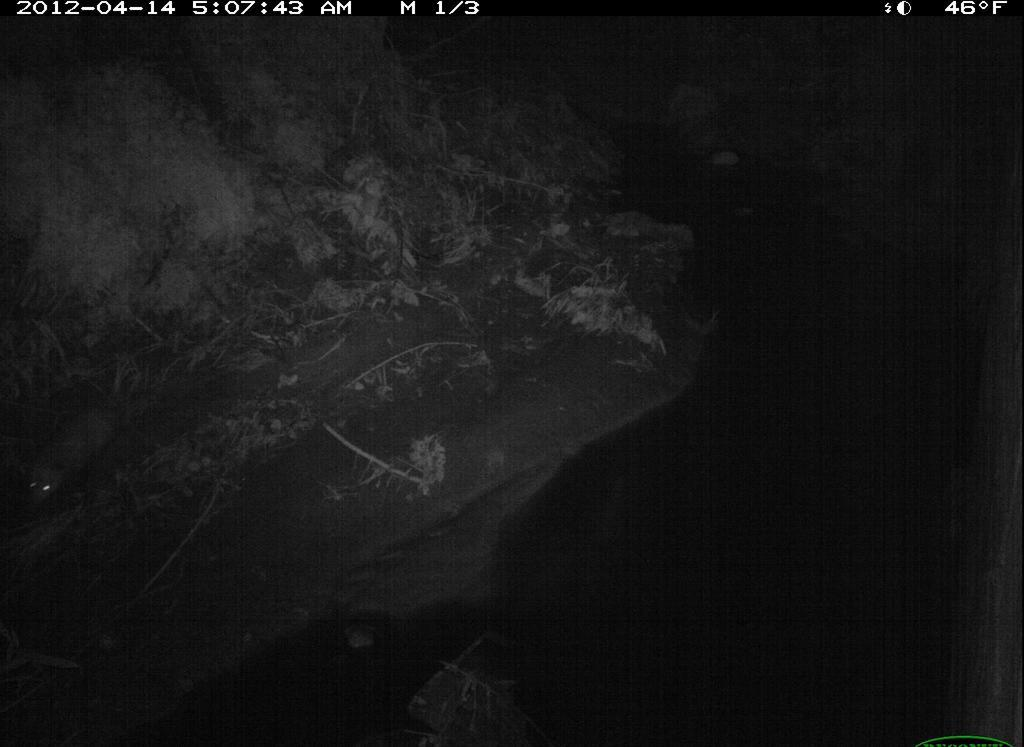opossum: (15, 387, 162, 523)
